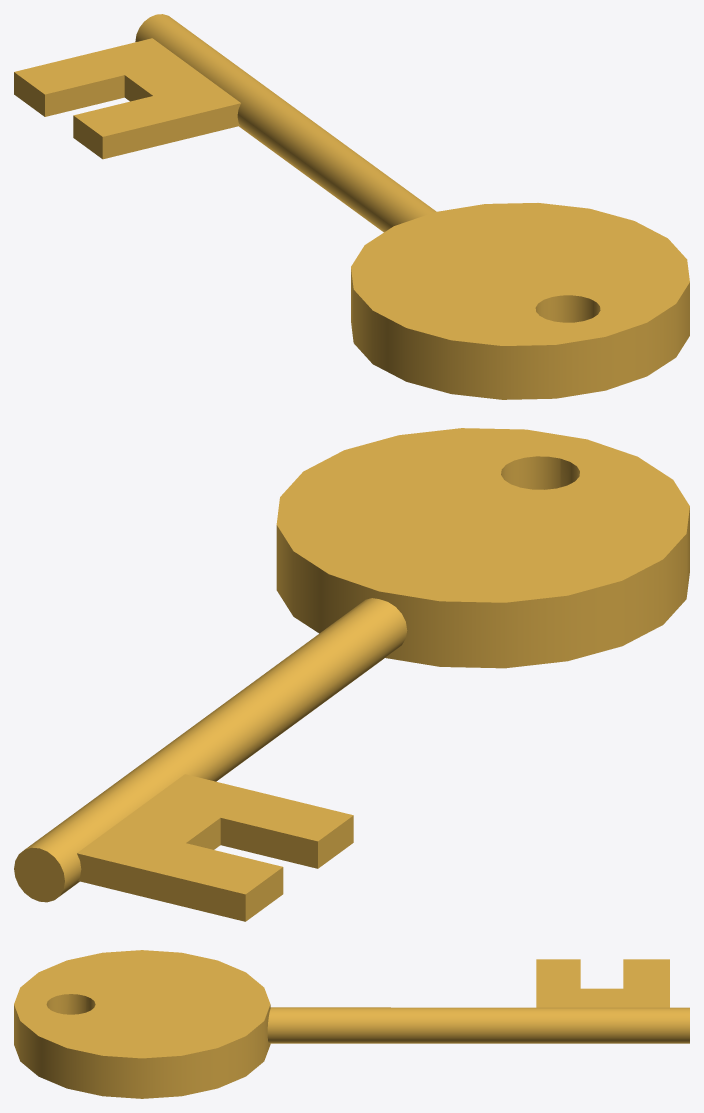
Rendered from key.fbx.
3 views of the same model, one above another, from view 1: azimuth 30°, elevation 25°; view 2: azimuth 150°, elevation 25°; view 3: azimuth 270°, elevation 25° (orthographic). The views are drawn at different scales.
Parts seen in each view (by area): view 1: pCylinder8, pCube3, pCylinder3; view 2: pCylinder8, pCube3, pCylinder3; view 3: pCylinder8, pCylinder3, pCube3.
Part boxes in pixels (box(x1,y1,x2,y2)): pCylinder8: box(351, 203, 689, 399); pCube3: box(14, 38, 240, 159); pCylinder3: box(135, 14, 436, 232); pCylinder8: box(276, 428, 689, 668); pCube3: box(77, 774, 353, 921); pCylinder3: box(14, 598, 407, 902); pCylinder8: box(14, 950, 270, 1098); pCylinder3: box(267, 1007, 689, 1043); pCube3: box(536, 959, 669, 1007).
Size of the model in its own units: 1.15 by 0.1953 by 2.96.
